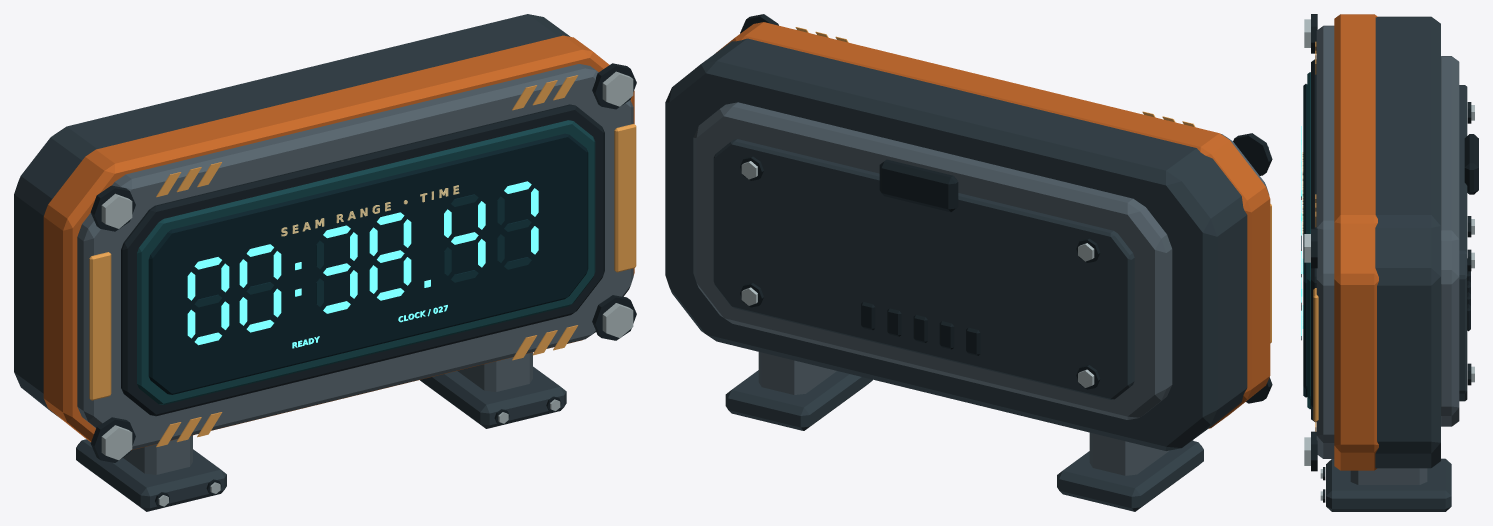
The model's file is wsc-prop-027-range-timer-display.glb.
3 renders of one model, left to right at view 1: azimuth 30°, elevation 25°; view 2: azimuth 150°, elevation 25°; view 3: azimuth 270°, elevation 25°, orthographic. The views are drawn at different scales.
Visible parts, largest first — view 1: wsc-prop-027-range-timer-display; view 2: wsc-prop-027-range-timer-display; view 3: wsc-prop-027-range-timer-display.
Boxes of the visible parts, bbox=[...] form: wsc-prop-027-range-timer-display: bbox=[14, 14, 636, 511]; wsc-prop-027-range-timer-display: bbox=[665, 14, 1272, 511]; wsc-prop-027-range-timer-display: bbox=[1301, 14, 1478, 511].
Bounding box in the file's own units: 2.12 × 1.25 × 0.65.
